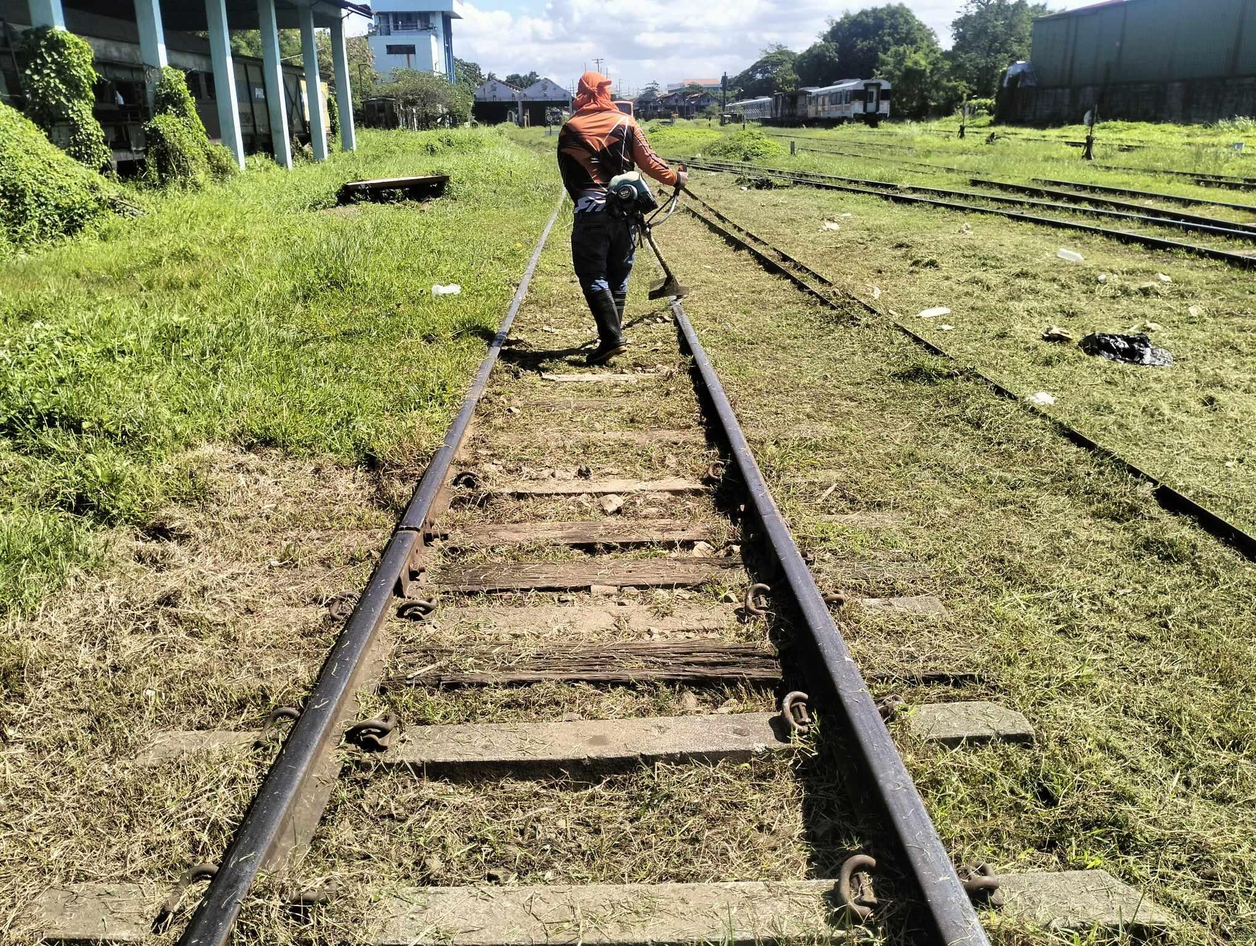railway-gap: (365, 489, 449, 570)
